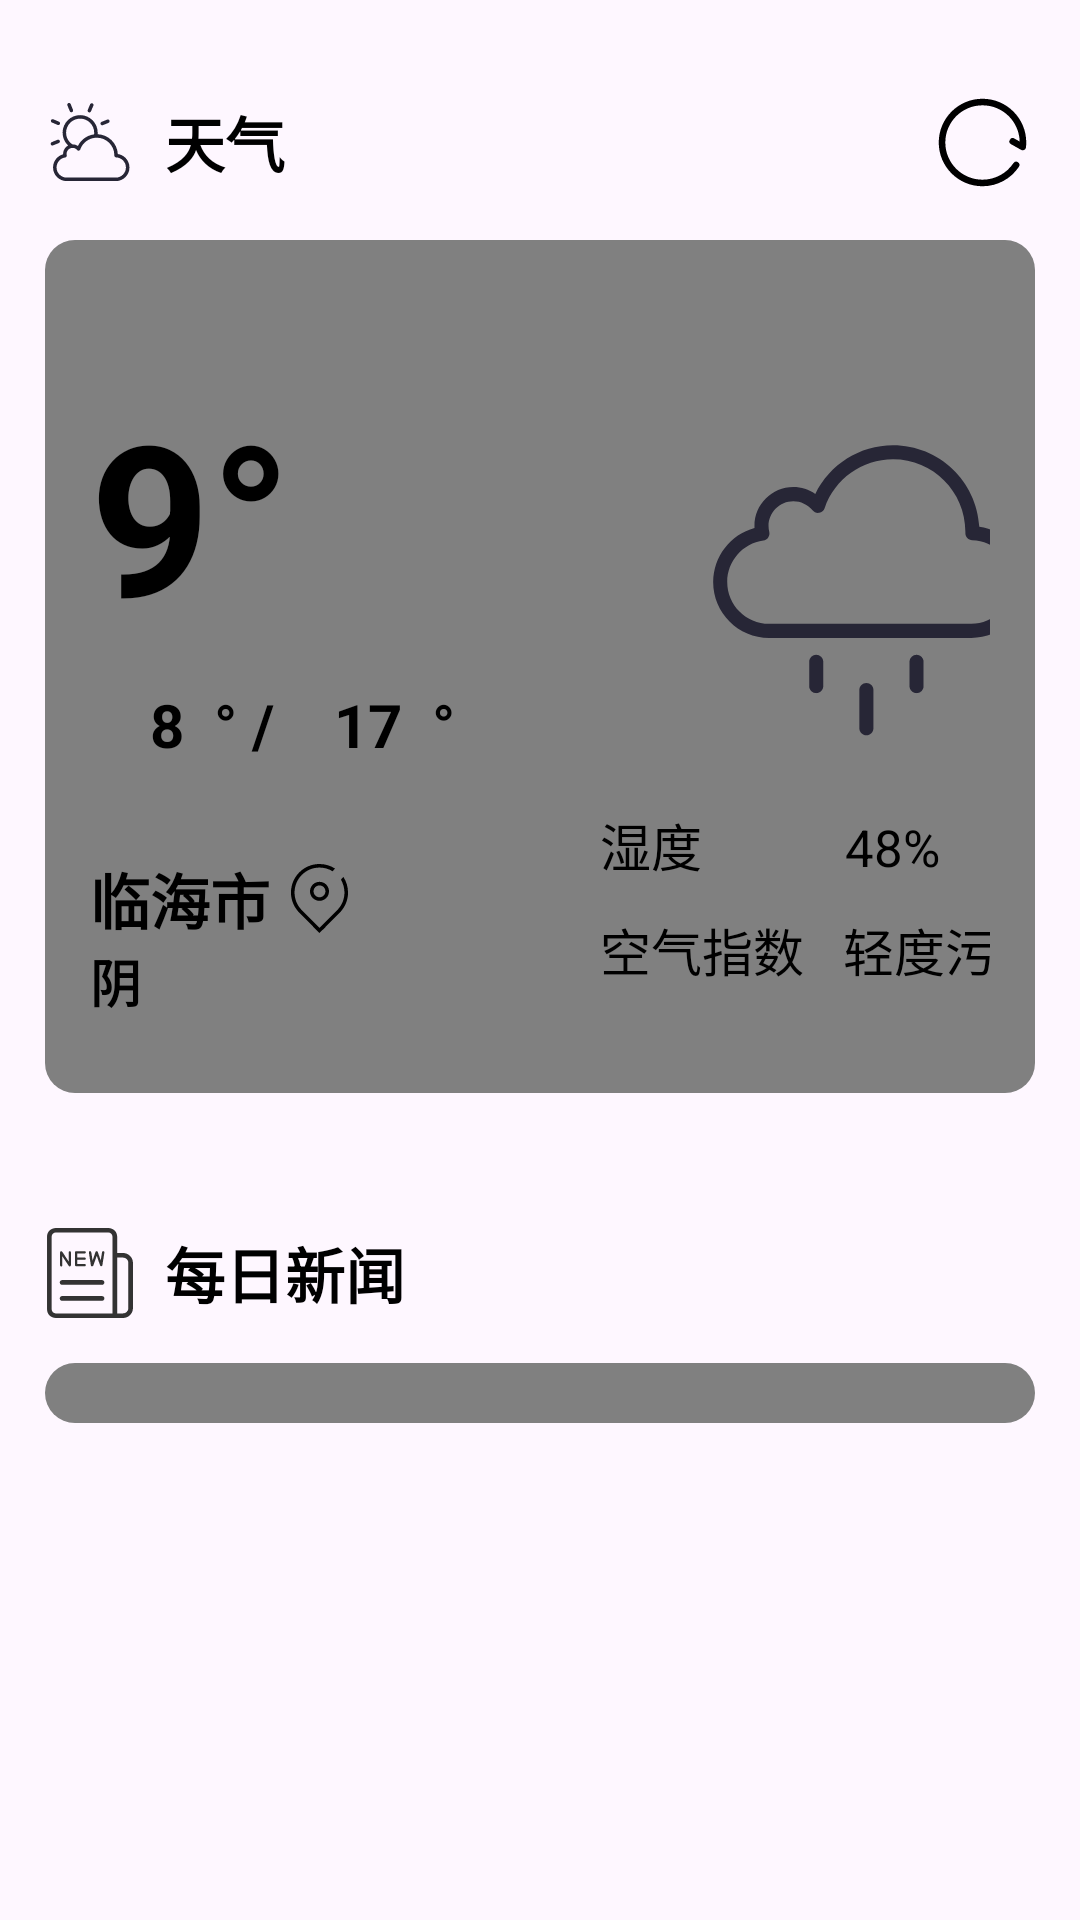

Named icons in this screenshot (1080x1920) and their bounding boxes, (x1, y1, x2, y2):
location: (291, 864, 348, 933)
refresh: (938, 98, 1027, 187)
weather: (50, 103, 130, 181)
